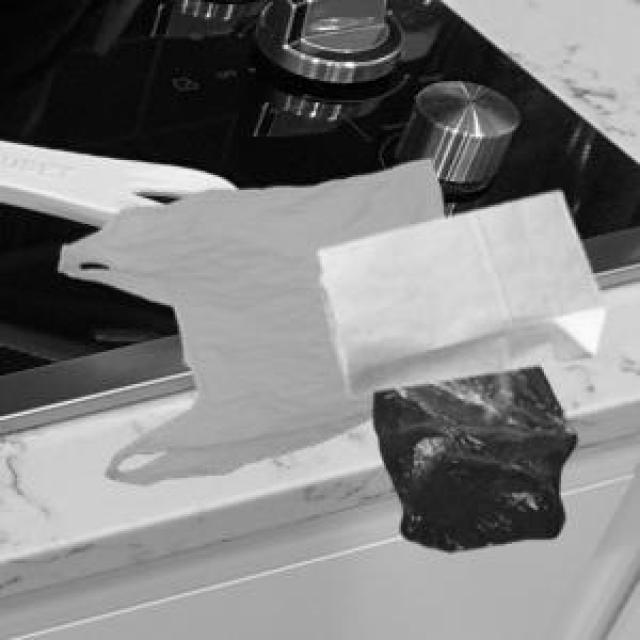paper: (316, 188, 600, 390)
